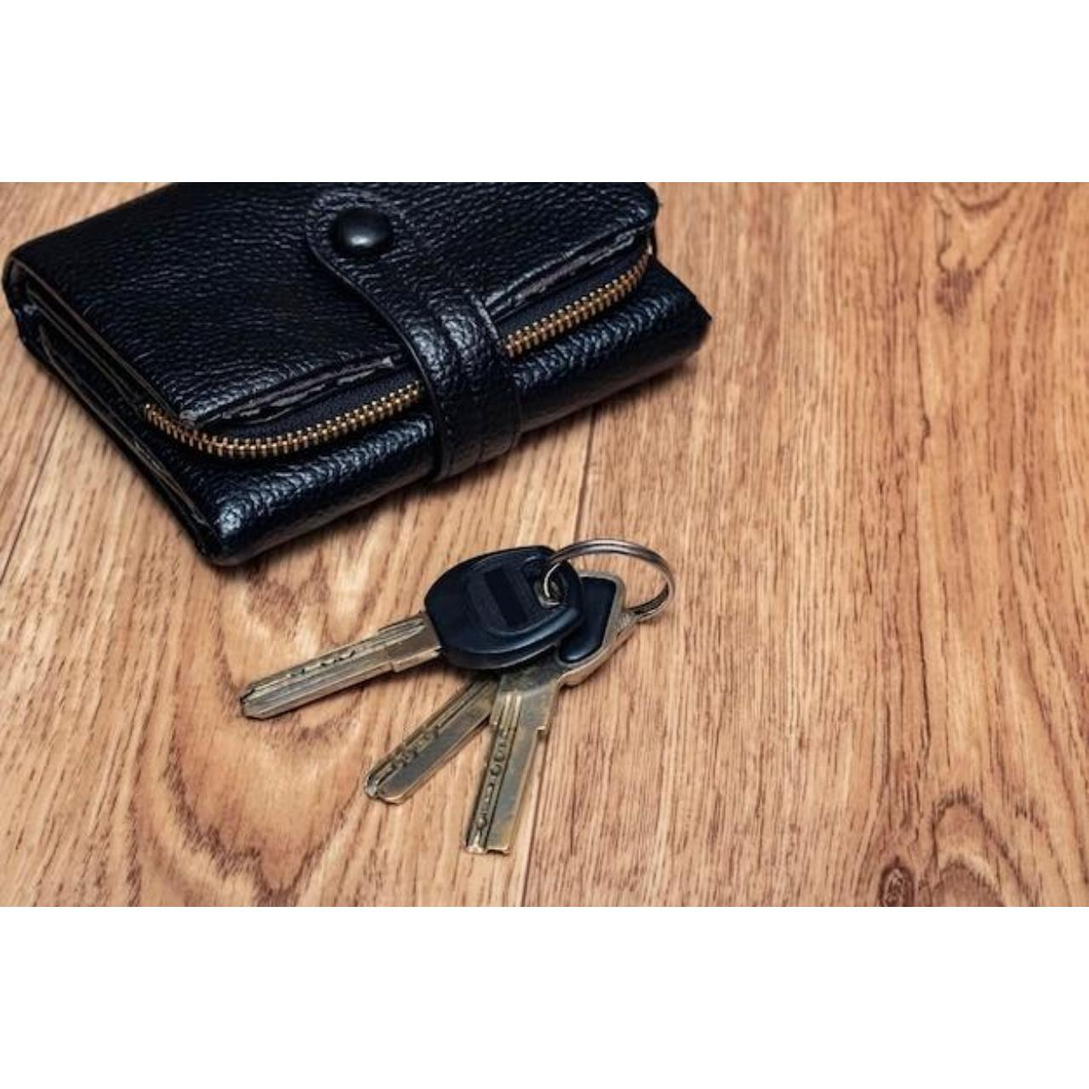wallet: (11, 187, 772, 512)
